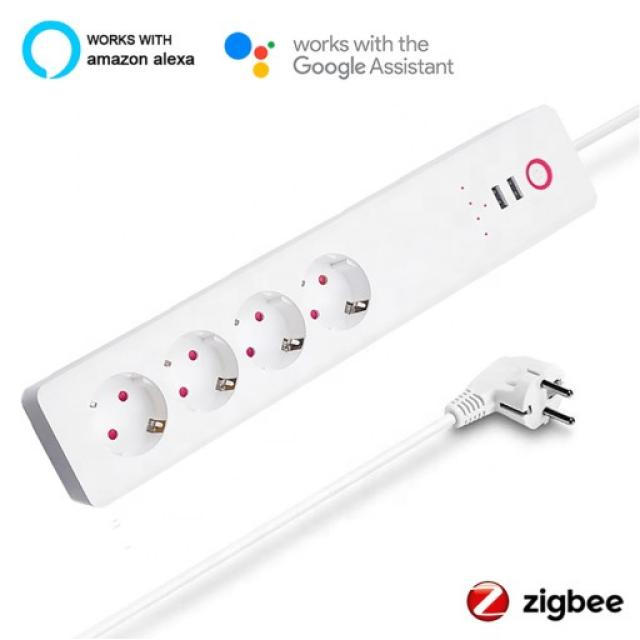typeb: (36, 104, 639, 525)
